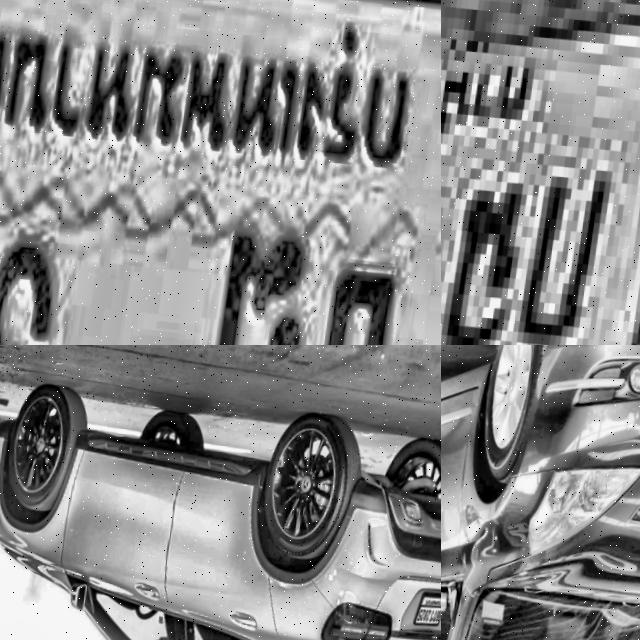license-plate: (0, 0, 441, 345), (441, 0, 640, 345), (417, 586, 441, 624)
